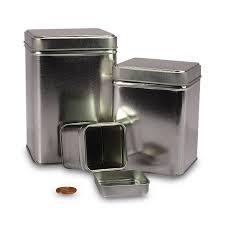Tin: (16, 19, 214, 212)
